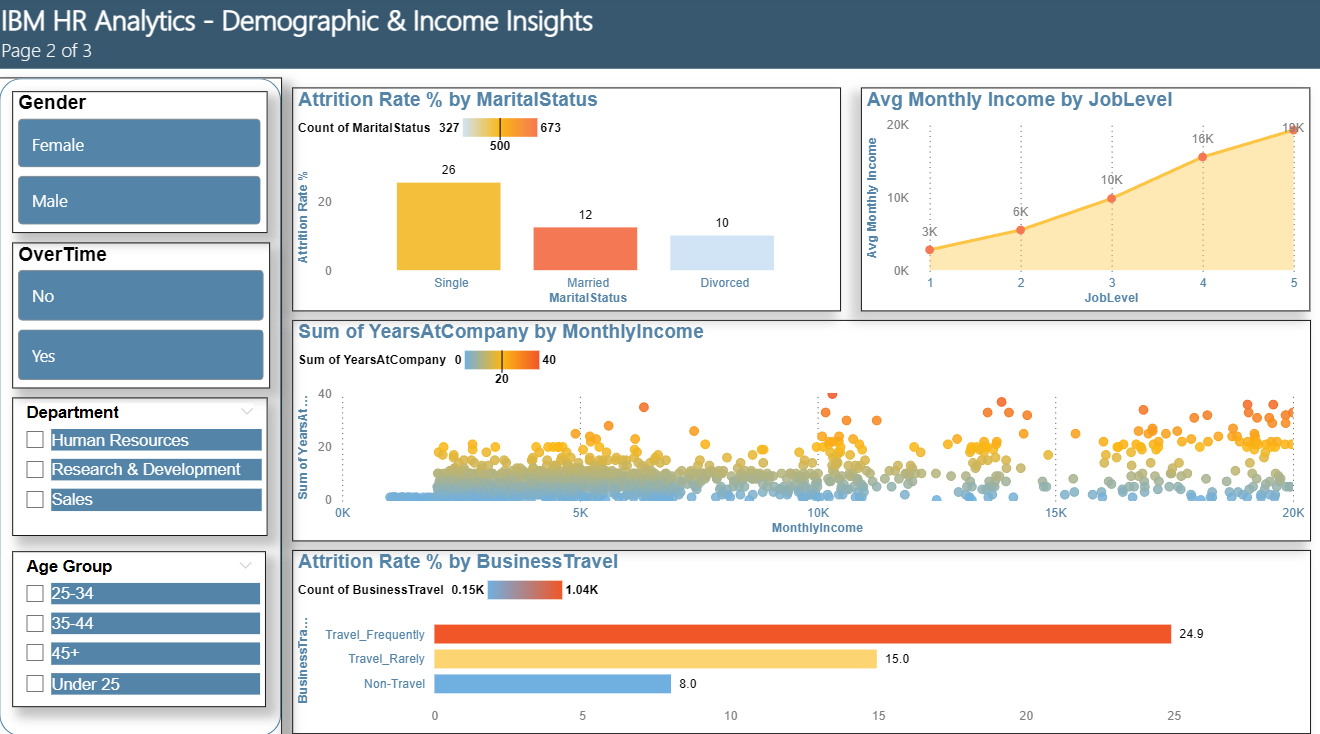

Layout of this report page (visuals, bound fields, positions):
{"tool":"powerbi","page":{"name":"Page 2","canvas":[1280,720],"ordinal":1},"visuals":[{"type":"shape","box":[2.6,80,274,637.1],"z":0},{"type":"lineChart","fields":{"Category":["WA_Fn-UseC_-HR-Employee-Attrition.JobLevel"],"Y":["WA_Fn-UseC_-HR-Employee-Attrition.Avg Monthly Income"]},"box":[835.1,89.1,433.9,216.3],"z":1000},{"type":"scatterChart","fields":{"Y":["Sum(WA_Fn-UseC_-HR-Employee-Attrition.YearsAtCompany)"],"X":["WA_Fn-UseC_-HR-Employee-Attrition.MonthlyIncome"]},"box":[285.8,313.3,983.2,213.7],"z":2000},{"type":"clusteredBarChart","fields":{"Category":["WA_Fn-UseC_-HR-Employee-Attrition.BusinessTravel"],"Y":["WA_Fn-UseC_-HR-Employee-Attrition.Attrition Rate %"]},"box":[285.9,535.7,983.2,177.3],"z":3000},{"type":"clusteredColumnChart","fields":{"Category":["WA_Fn-UseC_-HR-Employee-Attrition.MaritalStatus"],"Y":["WA_Fn-UseC_-HR-Employee-Attrition.Attrition Rate %"]},"box":[285.8,89.1,529.6,216.3],"z":5000},{"type":"advancedSlicerVisual","fields":{"Values":["WA_Fn-UseC_-HR-Employee-Attrition.Gender"]},"box":[16.1,92.4,246.5,136.7],"z":6000},{"type":"advancedSlicerVisual","fields":{"Values":["WA_Fn-UseC_-HR-Employee-Attrition.OverTime"]},"box":[16.1,238.5,249.2,140.7],"z":7000},{"type":"slicer","fields":{"Values":["WA_Fn-UseC_-HR-Employee-Attrition.Department"]},"box":[16.1,388.5,246.5,134],"z":8000},{"type":"slicer","fields":{"Values":["WA_Fn-UseC_-HR-Employee-Attrition.Age Group"]},"box":[16.1,537.2,245.2,150.1],"z":9000},{"type":"textbox","box":[0,0,1279.7,70.9],"z":10000}]}

Visuals, with their boxes in screenshot pixels (x1, y1, x2, y2), scaled from the page's 1280x720 canvas onto the 1320x734 screenshot:
shape: x1=3, y1=82, x2=285, y2=731
lineChart - WA_Fn-UseC_-HR-Employee-Attrition.JobLevel x WA_Fn-UseC_-HR-Employee-Attrition.Avg Monthly Income: x1=861, y1=91, x2=1309, y2=311
scatterChart - Sum(WA_Fn-UseC_-HR-Employee-Attrition.YearsAtCompany) x WA_Fn-UseC_-HR-Employee-Attrition.MonthlyIncome: x1=295, y1=319, x2=1309, y2=537
clusteredBarChart - WA_Fn-UseC_-HR-Employee-Attrition.BusinessTravel x WA_Fn-UseC_-HR-Employee-Attrition.Attrition Rate %: x1=295, y1=546, x2=1309, y2=727
clusteredColumnChart - WA_Fn-UseC_-HR-Employee-Attrition.MaritalStatus x WA_Fn-UseC_-HR-Employee-Attrition.Attrition Rate %: x1=295, y1=91, x2=841, y2=311
advancedSlicerVisual - WA_Fn-UseC_-HR-Employee-Attrition.Gender: x1=17, y1=94, x2=271, y2=234
advancedSlicerVisual - WA_Fn-UseC_-HR-Employee-Attrition.OverTime: x1=17, y1=243, x2=274, y2=387
slicer - WA_Fn-UseC_-HR-Employee-Attrition.Department: x1=17, y1=396, x2=271, y2=533
slicer - WA_Fn-UseC_-HR-Employee-Attrition.Age Group: x1=17, y1=548, x2=269, y2=701
textbox: x1=0, y1=0, x2=1319, y2=72
